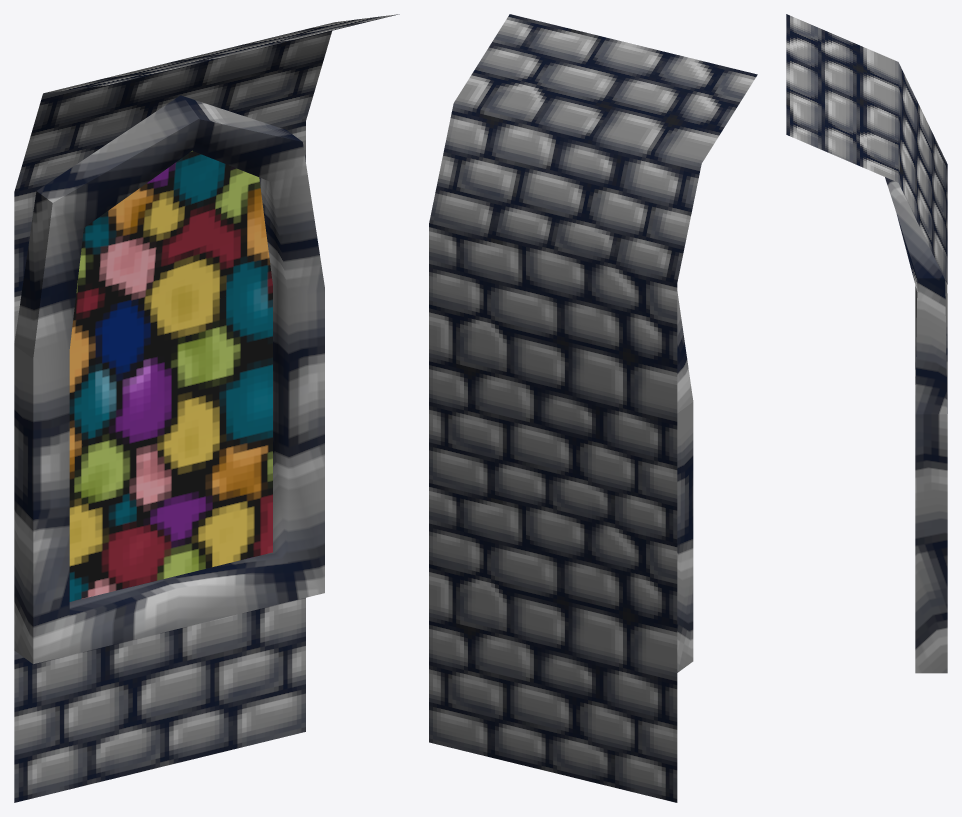
Rendered from Murvitrail.glb.
3 views of the same model, side by side, from view 1: azimuth 30°, elevation 25°; view 2: azimuth 150°, elevation 25°; view 3: azimuth 270°, elevation 25° (orthographic). The views are drawn at different scales.
Parts seen in each view (by area): view 1: MurVitrail.001; view 2: MurVitrail.001; view 3: MurVitrail.001.
Boxes of the visible parts, box(x1,y1,x2,y2) form: MurVitrail.001: box(14, 14, 399, 802); MurVitrail.001: box(429, 14, 757, 802); MurVitrail.001: box(786, 14, 947, 673).
Size of the model in its own units: 2 by 5.16 by 1.13.
Materials: 2 (2 with a texture image).
